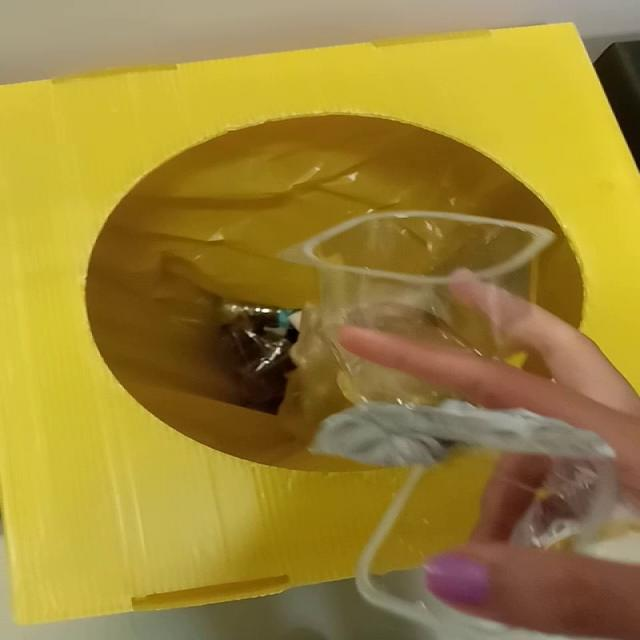plastic: (284, 211, 556, 405)
